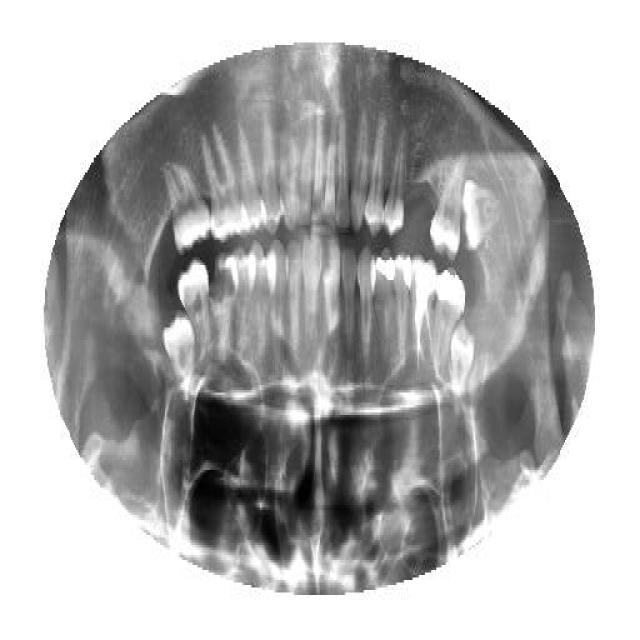Cavity: (209, 253, 236, 385)
Fillings: (434, 272, 465, 388), (395, 250, 413, 365), (378, 245, 394, 350)
Impacted Tooth: (462, 178, 502, 250), (449, 317, 476, 405)
Implant: (412, 255, 438, 377)
